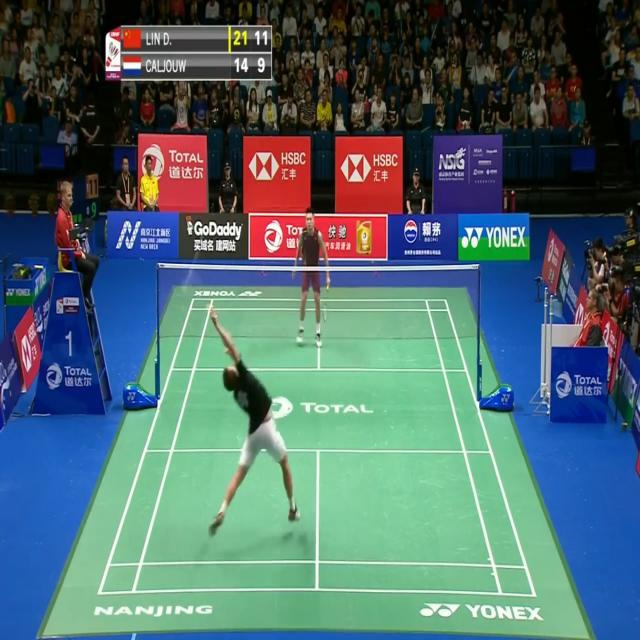Player1: (198, 296, 308, 543)
Player2: (289, 204, 337, 353)
